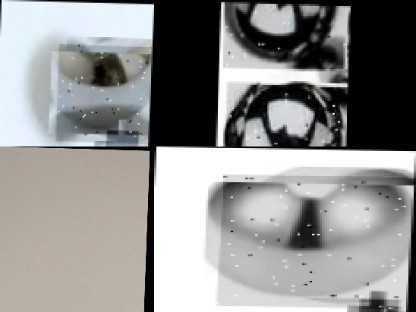ironball: (215, 174, 414, 308), (55, 44, 152, 142), (221, 1, 346, 70), (224, 81, 348, 146), (326, 4, 350, 121), (358, 297, 399, 311), (105, 129, 138, 146)
